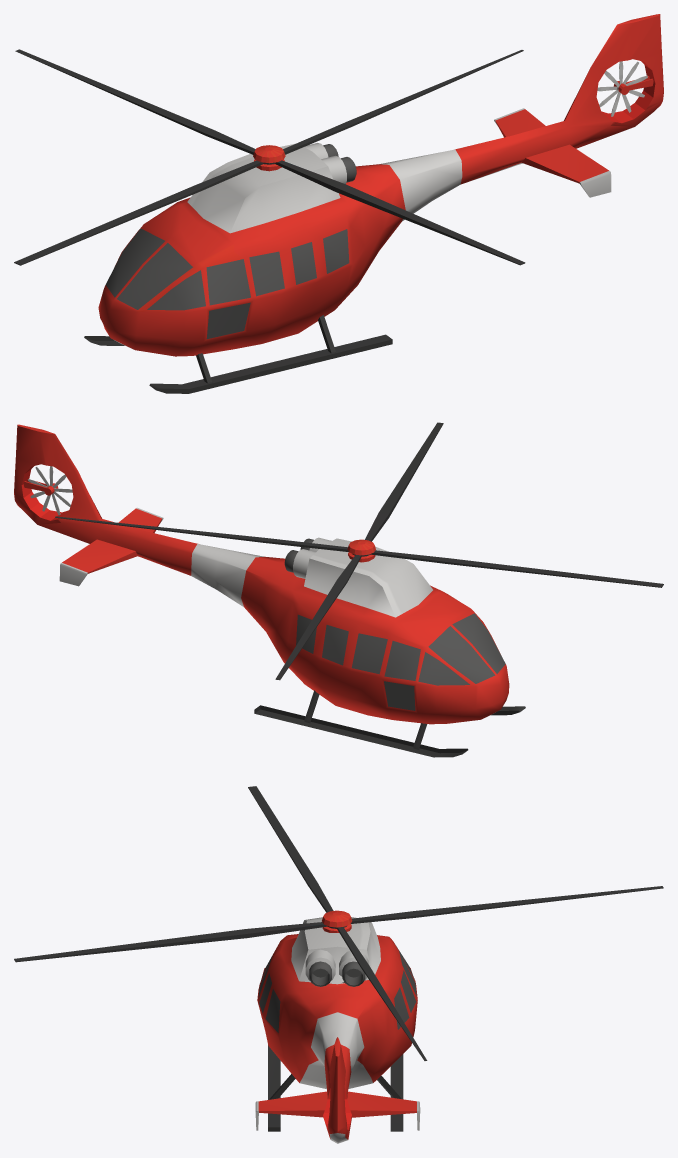
Rendered from Lowpoly_Helicopter-transformed.glb.
3 views of the same model, one above another, from view 1: azimuth 30°, elevation 25°; view 2: azimuth 150°, elevation 25°; view 3: azimuth 270°, elevation 25° (orthographic). The views are drawn at different scales.
Visible parts, largest first — view 1: Propeller; view 2: Propeller; view 3: Propeller.
Part boxes in pixels (left/top/right/bottom): Propeller: left=14, top=14, right=663, bottom=393; Propeller: left=14, top=422, right=663, bottom=757; Propeller: left=14, top=786, right=663, bottom=1143.
Bounding box in the file's own units: 4824 × 1521 × 4172.
Materials: 1 (1 with a texture image).
